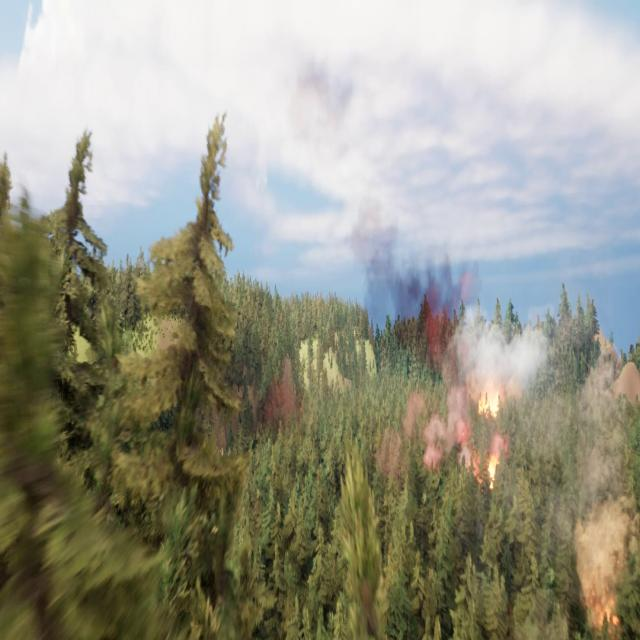fire: (475, 383, 508, 421), (485, 452, 507, 486)
smoke: (349, 188, 550, 481)
